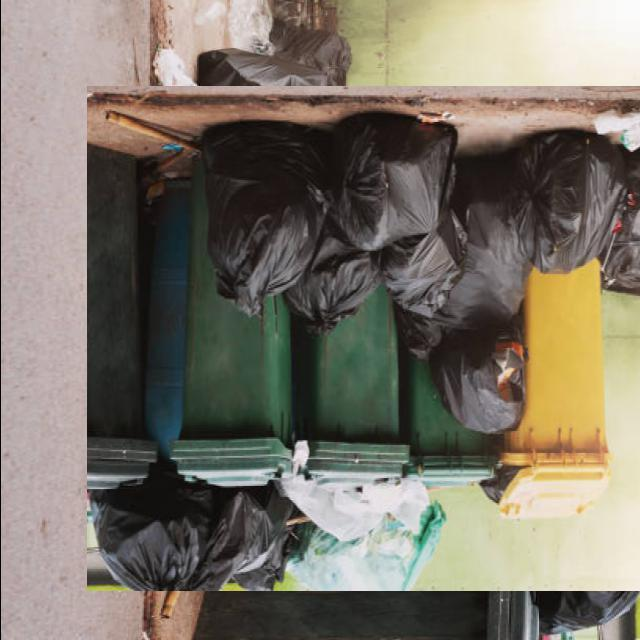Trashbag: (190, 127, 342, 311), (88, 475, 282, 600), (333, 99, 458, 251), (517, 117, 629, 280), (418, 307, 546, 438), (449, 148, 537, 325), (371, 218, 471, 317), (193, 39, 347, 100), (275, 18, 355, 71)
